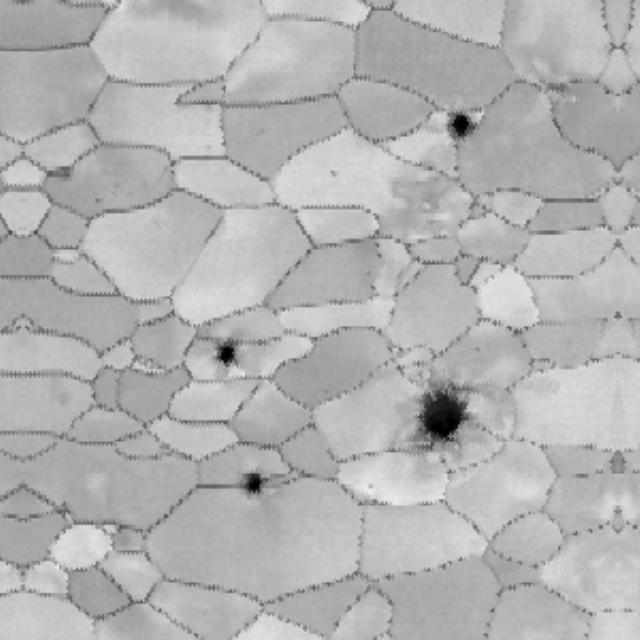good_void: (411, 372, 479, 461), (207, 329, 249, 377), (231, 462, 274, 503), (440, 115, 476, 157), (44, 161, 76, 183), (92, 194, 112, 208), (325, 165, 342, 178), (366, 481, 374, 494)
